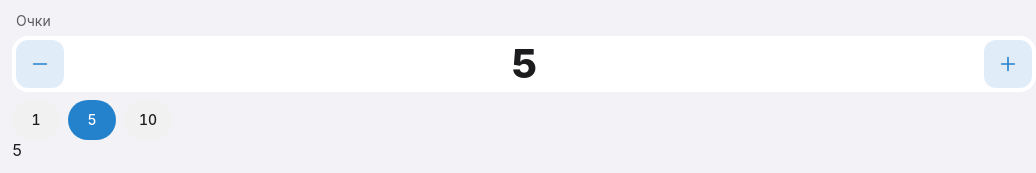
Stepper › takes a typed number, clamps it on blur, and picks presets
The image size is (1036, 173).
Replace the text in the field labelled "Очки" with "15а" at (524, 64), box [503,43,545,85]
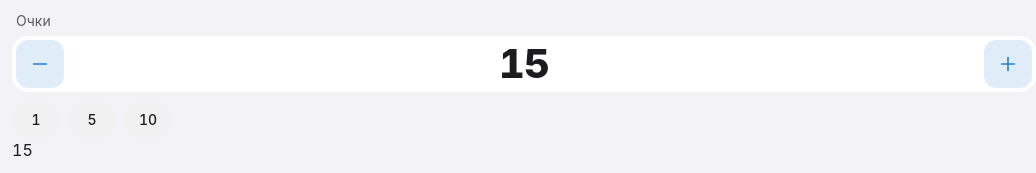
Replace the text in the field labelled "Очки" with "99" at (524, 64), box [489,43,559,85]
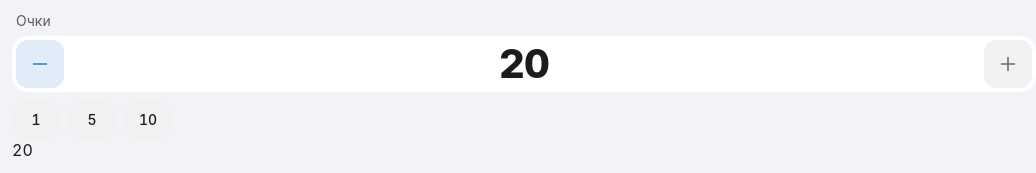
Click the button "10".
click(148, 120)  # box [124,100,172,140]
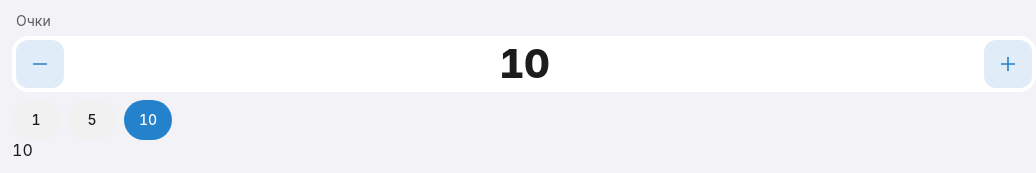
Check: the button "10" is pressed, box [124,100,172,140]
